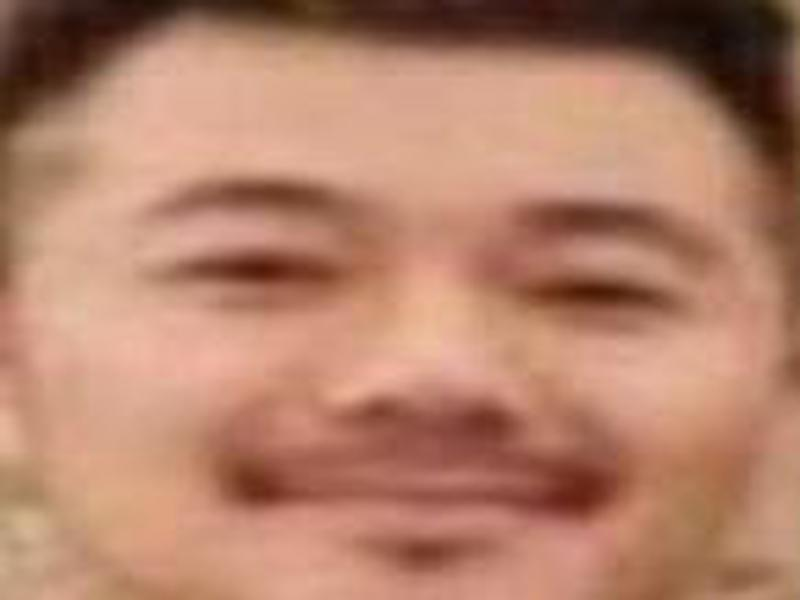without_mask: (16, 19, 787, 600)
